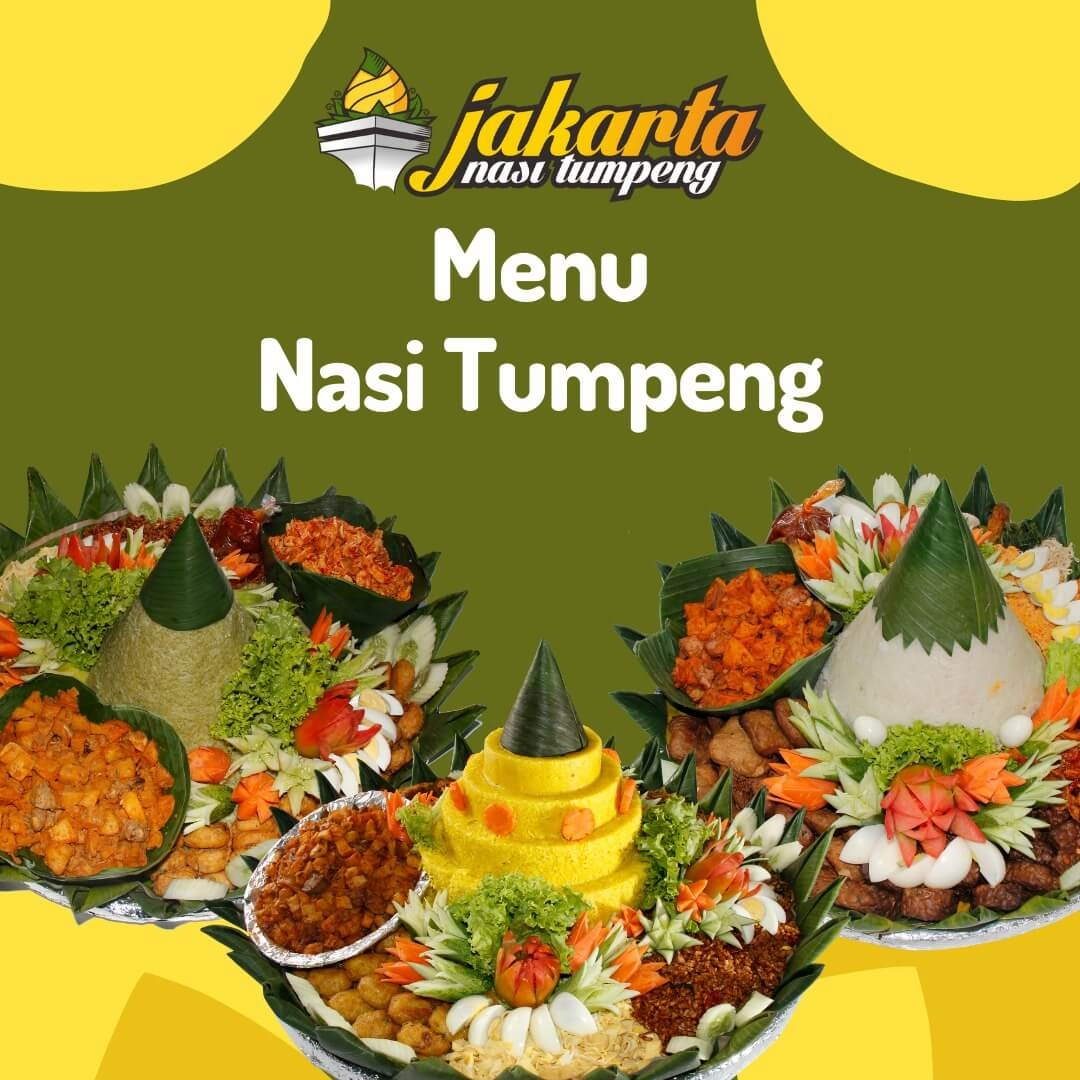tumpeng: (451, 673, 645, 798)
